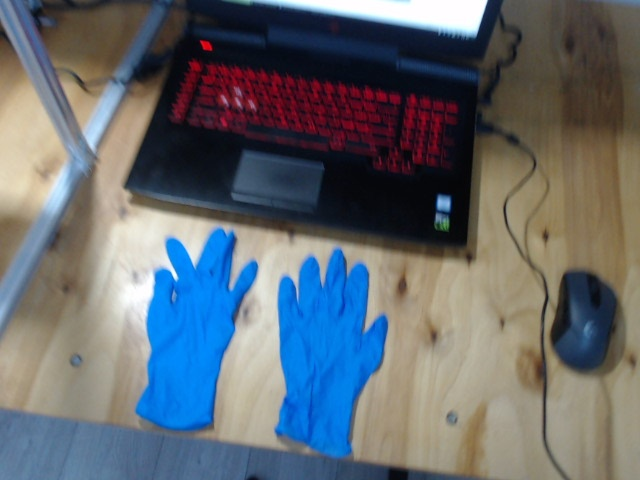medical_glove: (137, 228, 258, 430), (277, 248, 388, 457)
